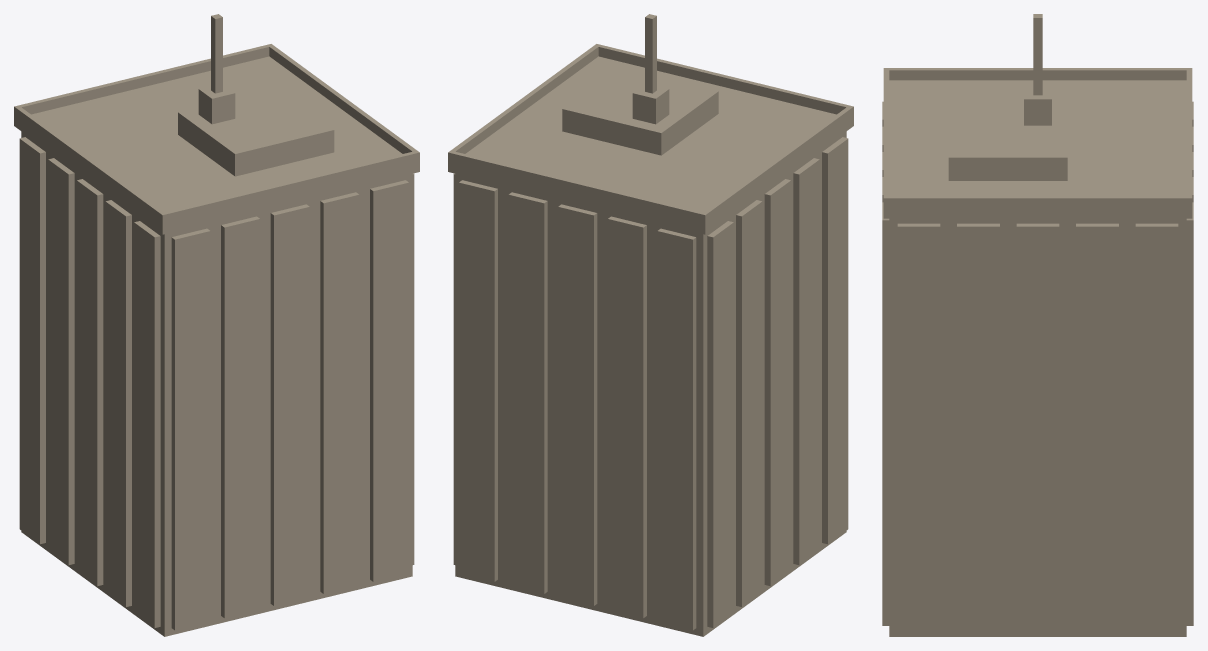
The model's file is Building G.fbx.
3 views of the same model, side by side, from view 1: azimuth 30°, elevation 25°; view 2: azimuth 150°, elevation 25°; view 3: azimuth 270°, elevation 25° (orthographic). The views are drawn at different scales.
Parts seen in each view (by area): view 1: Highrise_6; view 2: Highrise_6; view 3: Highrise_6.
Part boxes in pixels (x1,y1,x2,y2): Highrise_6: (14, 14, 419, 636); Highrise_6: (448, 14, 853, 636); Highrise_6: (882, 14, 1193, 636).
Bounding box in the file's own units: 209 × 414 × 209.
